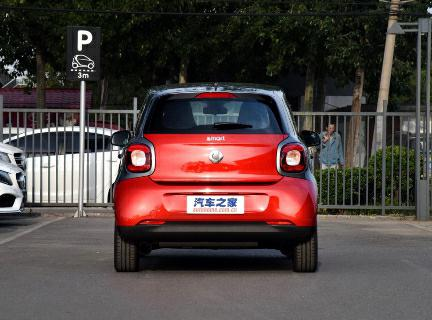smart-forfour: (107, 90, 324, 275)
